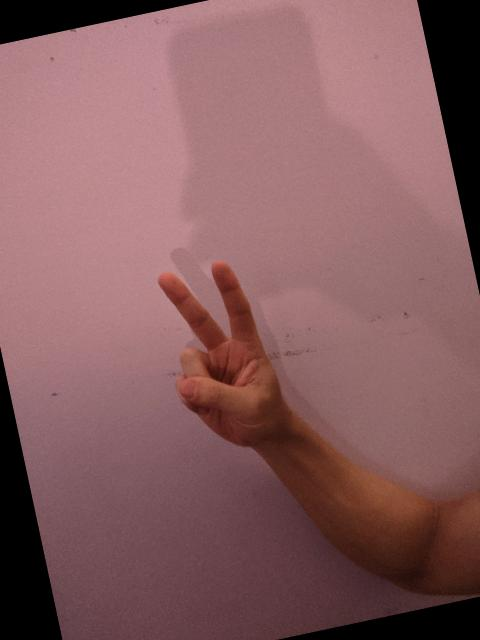V: (146, 248, 296, 465)
